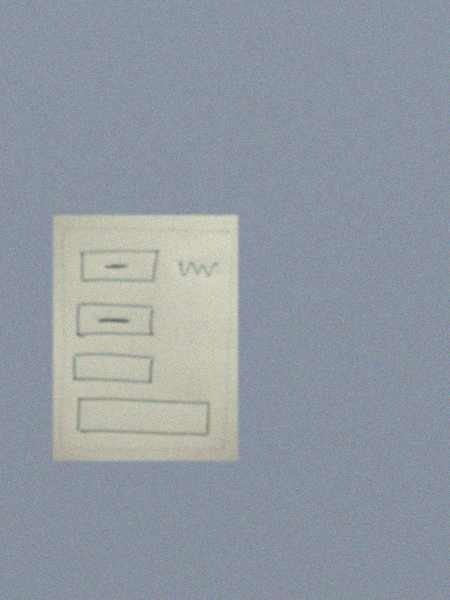button: (76, 245, 160, 287), (73, 301, 156, 342)
text: (174, 255, 219, 284)
text_input: (73, 396, 211, 440), (71, 350, 156, 390)
